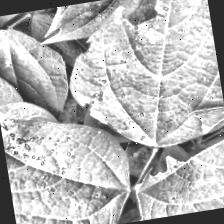ALS: (58, 0, 224, 158), (0, 61, 130, 224), (126, 108, 224, 220)
